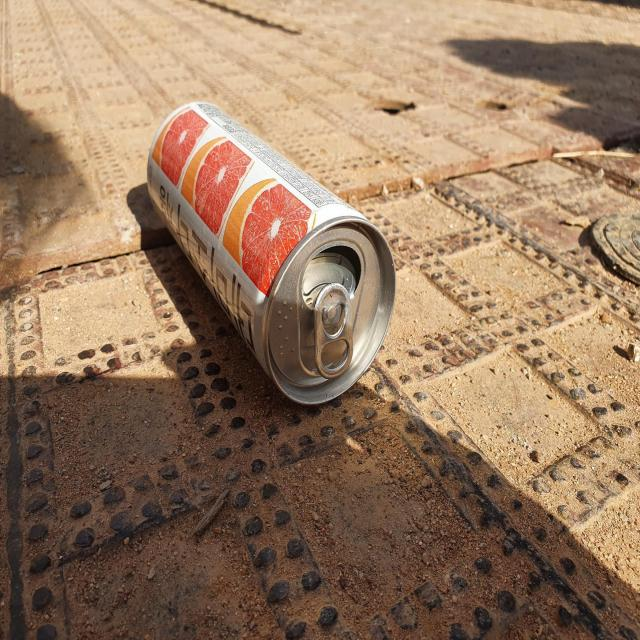can: (147, 101, 396, 405)
